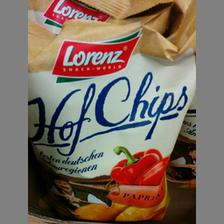Chips: (27, 25, 189, 218)
